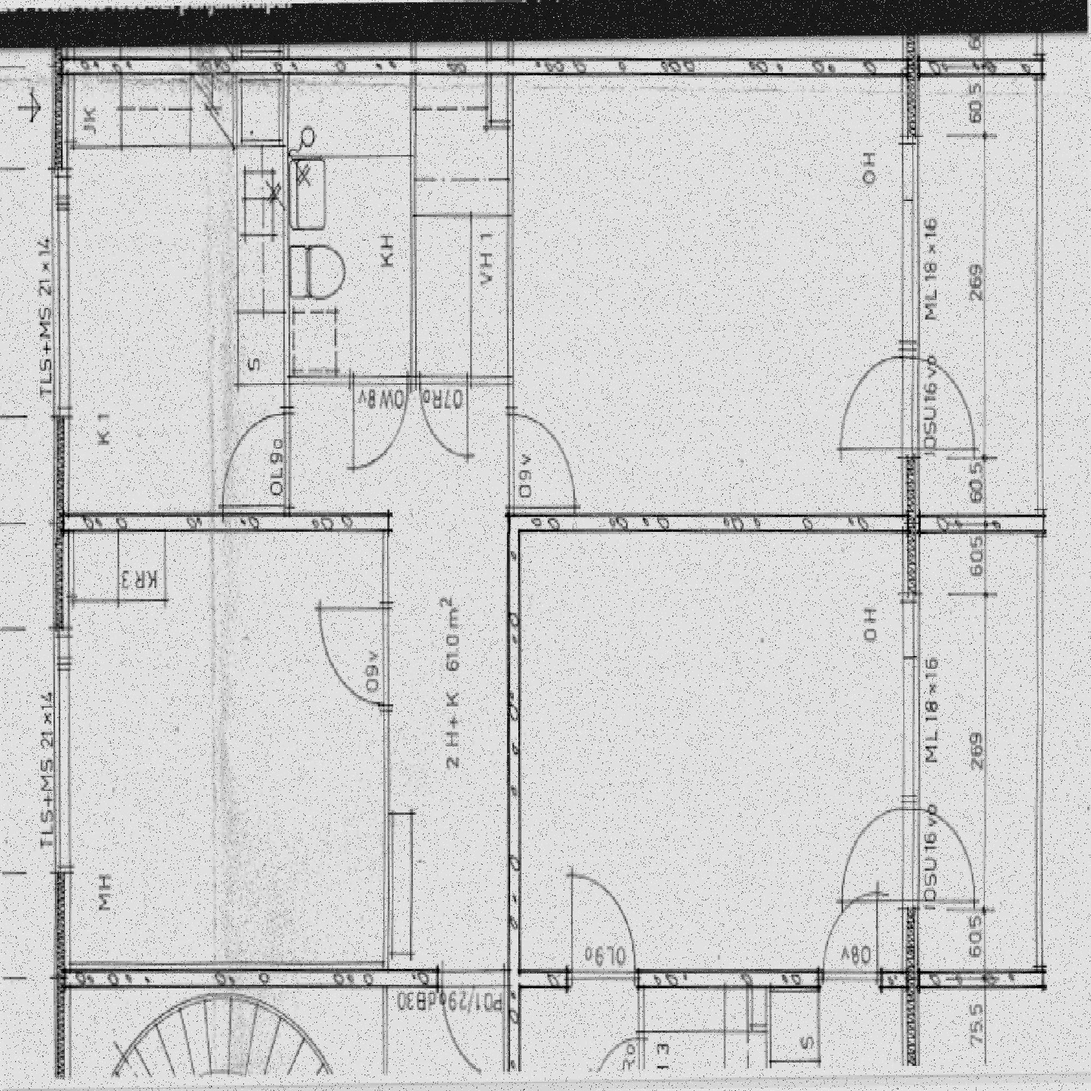wall: (52, 59, 918, 77), (52, 59, 68, 987), (52, 963, 389, 986), (903, 59, 918, 531), (509, 515, 918, 531), (52, 514, 389, 531), (509, 515, 520, 987), (237, 59, 283, 147), (509, 59, 514, 531), (283, 59, 288, 531), (384, 514, 389, 971), (918, 59, 1043, 77), (389, 971, 520, 987), (918, 515, 1043, 531), (410, 59, 416, 384), (283, 376, 513, 384), (486, 59, 509, 128)
